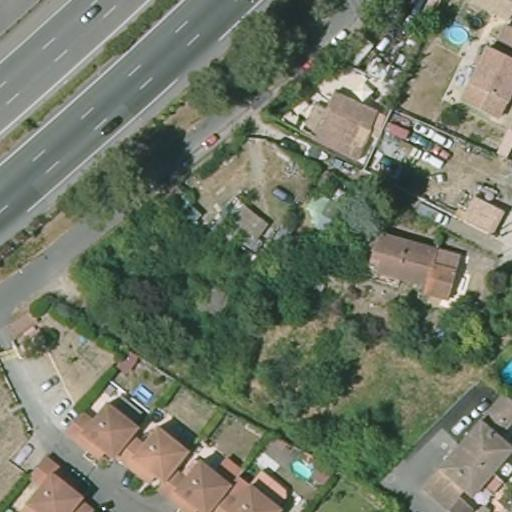pool: (290, 455, 318, 483), (444, 21, 474, 46), (500, 353, 511, 387)
